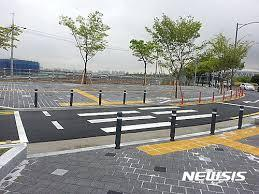Animal: (112, 117, 136, 149), (204, 106, 224, 144), (169, 110, 181, 136), (239, 104, 248, 134)
